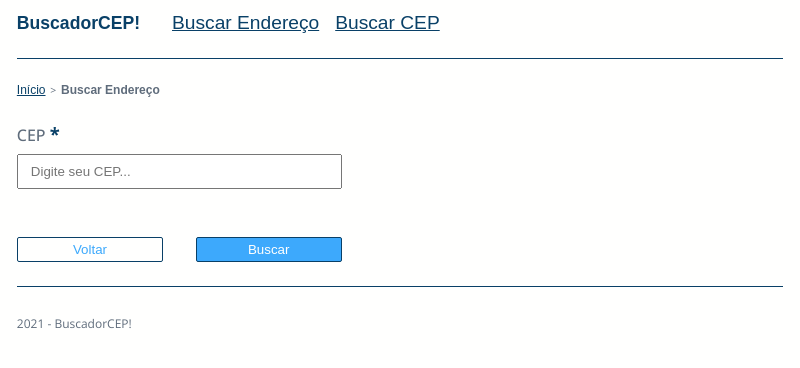
Test: Run unsuccessful address search › with 7 characters
This screenshot has width=800, height=368.
Type "1234567" into the number field named "cep" at {"x": 180, "y": 172}, box [17,154,342,189]
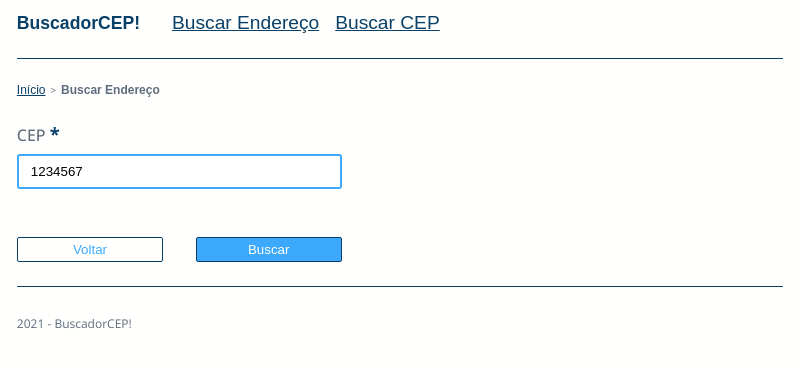
Click the button "Buscar" at {"x": 269, "y": 250}, box [196,237,342,262]
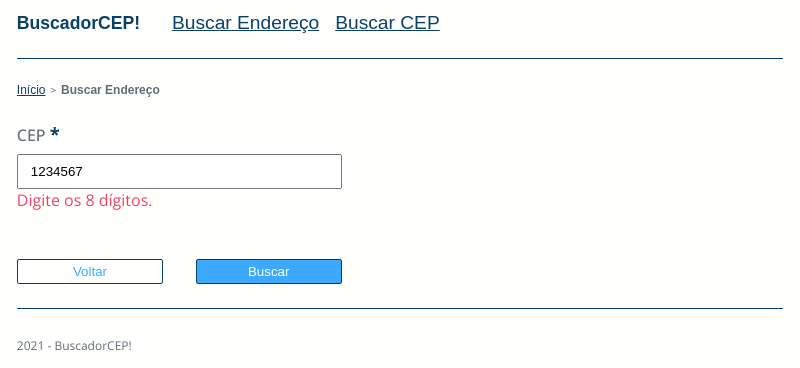
expect the text "Digite os 8 dígitos." is shown: met, box [17,189,152,211]
